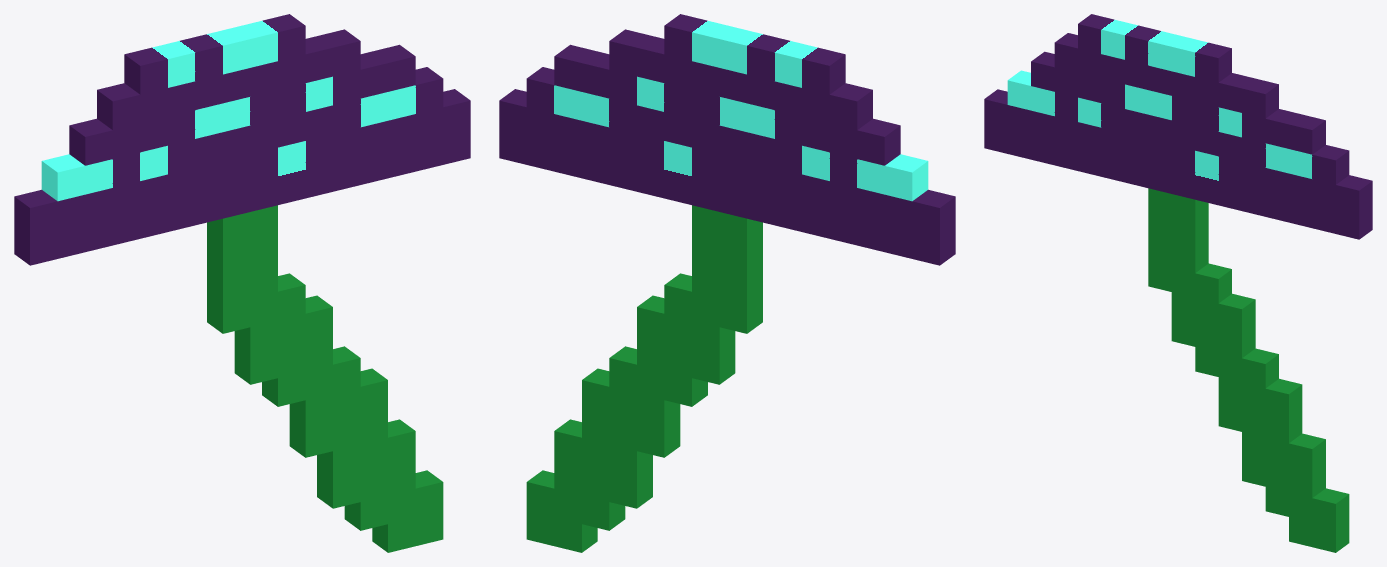
File: grzib_neon.dae
The picture shows the model from 3 angles, left to right: view 1: azimuth 30°, elevation 25°; view 2: azimuth 150°, elevation 25°; view 3: azimuth 330°, elevation 25°; orthographic projection. The views are drawn at different scales.
Parts seen in each view (by area): view 1: Content; view 2: Content; view 3: Content.
Boxes of the visible parts, <box> form: Content: <box>14,14,470,552</box>; Content: <box>499,14,955,552</box>; Content: <box>984,14,1372,552</box>.
Bounding box in the file's own units: 16 × 19 × 1.
1 material, 1 textured.
